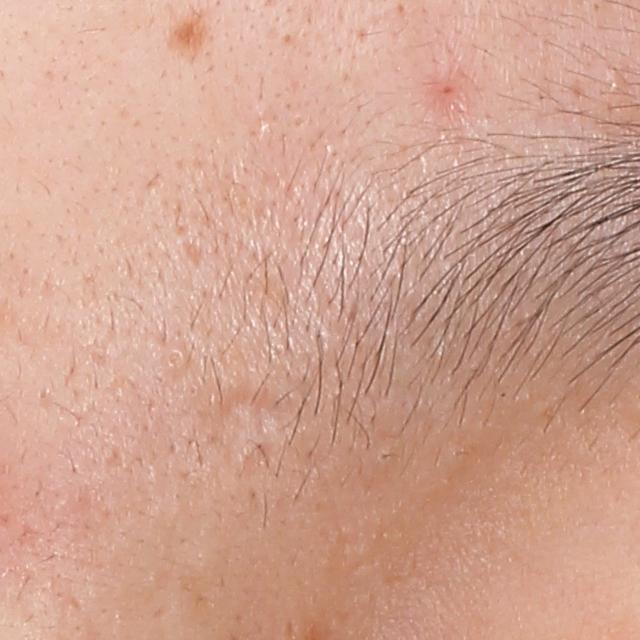atrophic_scar: (198, 383, 318, 466), (177, 237, 206, 269)
comedo: (161, 342, 190, 376)
